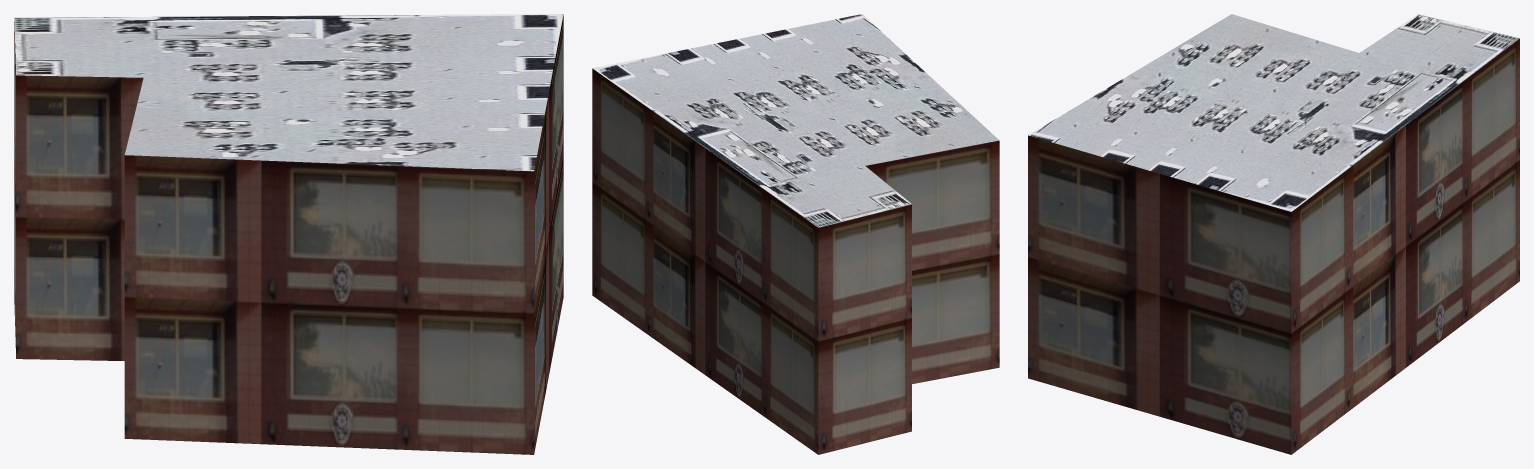
The model's file is ResTex__99.fbx.
3 views of the same model, side by side, from view 1: azimuth 30°, elevation 25°; view 2: azimuth 150°, elevation 25°; view 3: azimuth 270°, elevation 25° (orthographic). The views are drawn at different scales.
Visible parts, largest first — view 1: CityEngineMaterial_13_m, CityEngineMaterial_m; view 2: CityEngineMaterial_13_m, CityEngineMaterial_m; view 3: CityEngineMaterial_13_m, CityEngineMaterial_m.
Part boxes in pixels (left/top/right/bottom): CityEngineMaterial_13_m: left=14, top=15, right=563, bottom=454; CityEngineMaterial_m: left=14, top=14, right=563, bottom=171; CityEngineMaterial_13_m: left=592, top=68, right=999, bottom=454; CityEngineMaterial_m: left=593, top=14, right=999, bottom=227; CityEngineMaterial_13_m: left=1028, top=38, right=1519, bottom=454; CityEngineMaterial_m: left=1028, top=14, right=1519, bottom=211.
Bounding box in the file's own units: 10.49 × 6 × 11.01.
Materials: 2 (2 with a texture image).
